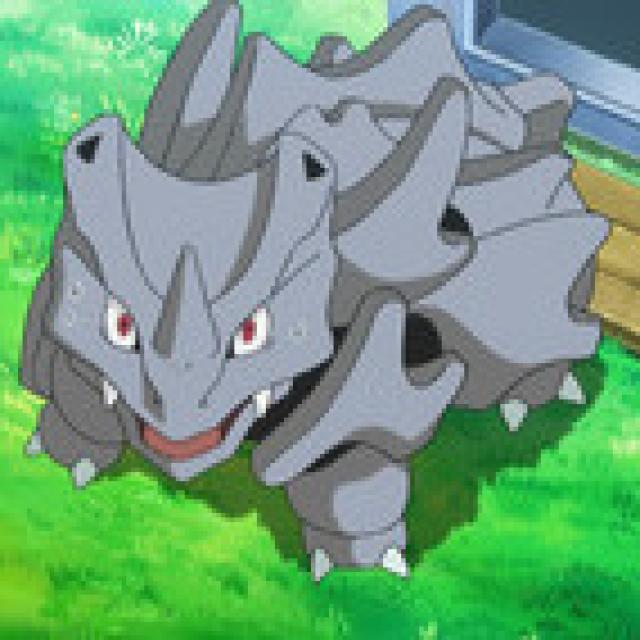Rhyhorn: (10, 9, 547, 574)
